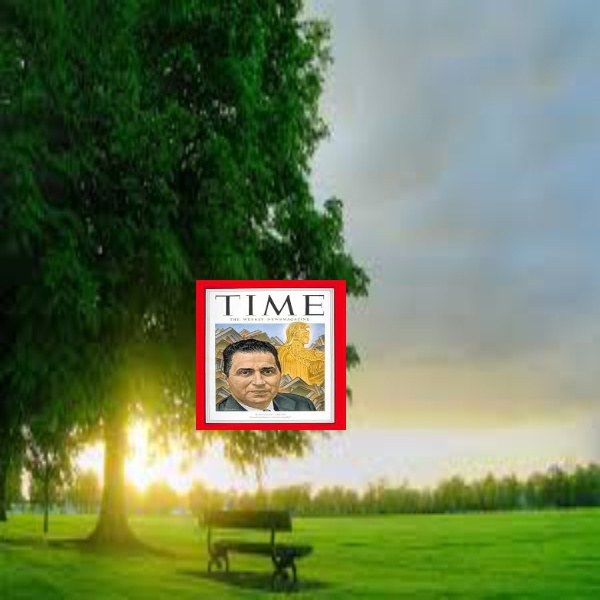time_cover: (195, 274, 344, 433)
